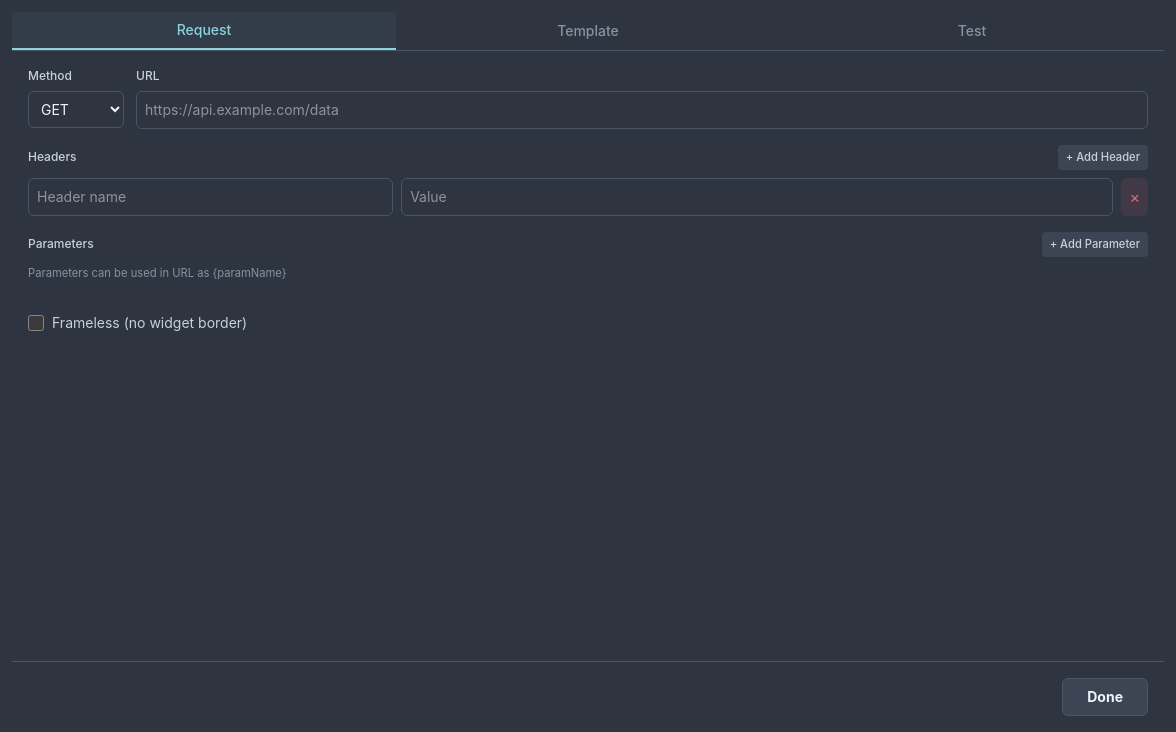
Test: CustomApiBuilder › switches to test tab
Click the button "Test". click: [972, 31]
box: [780, 12, 1164, 50]
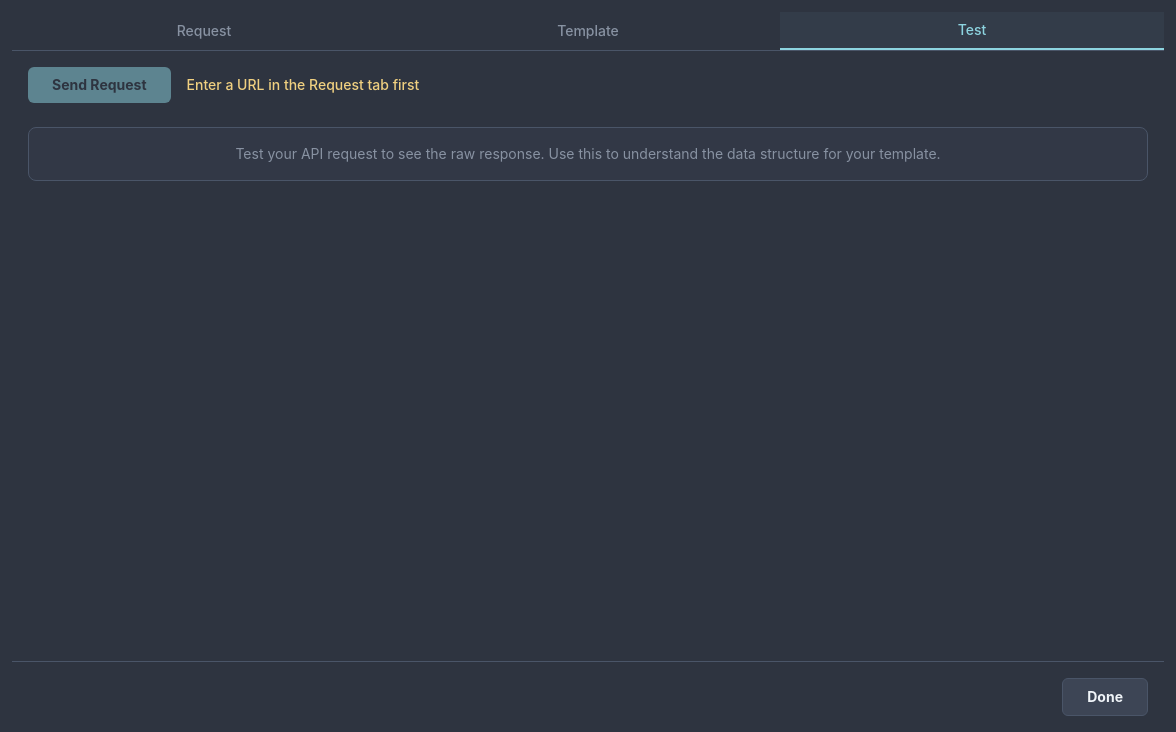
Expected: the button "Send Request" is shown, [28, 67, 171, 103]
